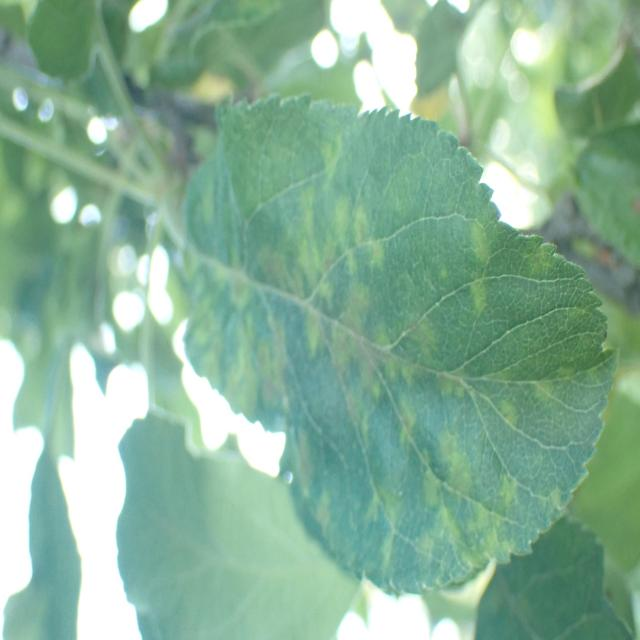scab: (190, 84, 616, 586)
